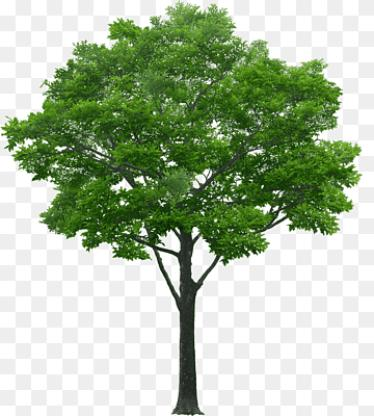tree: (3, 3, 367, 416)
